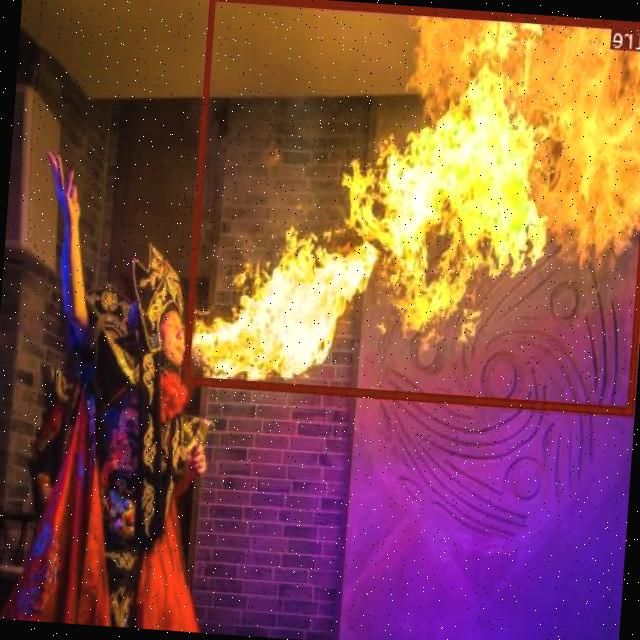fire: (183, 0, 640, 413)
